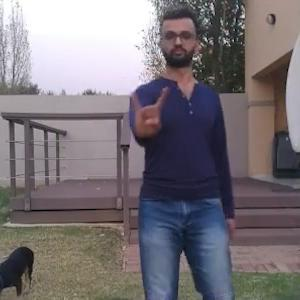takeoff-hand: (123, 81, 176, 143)
